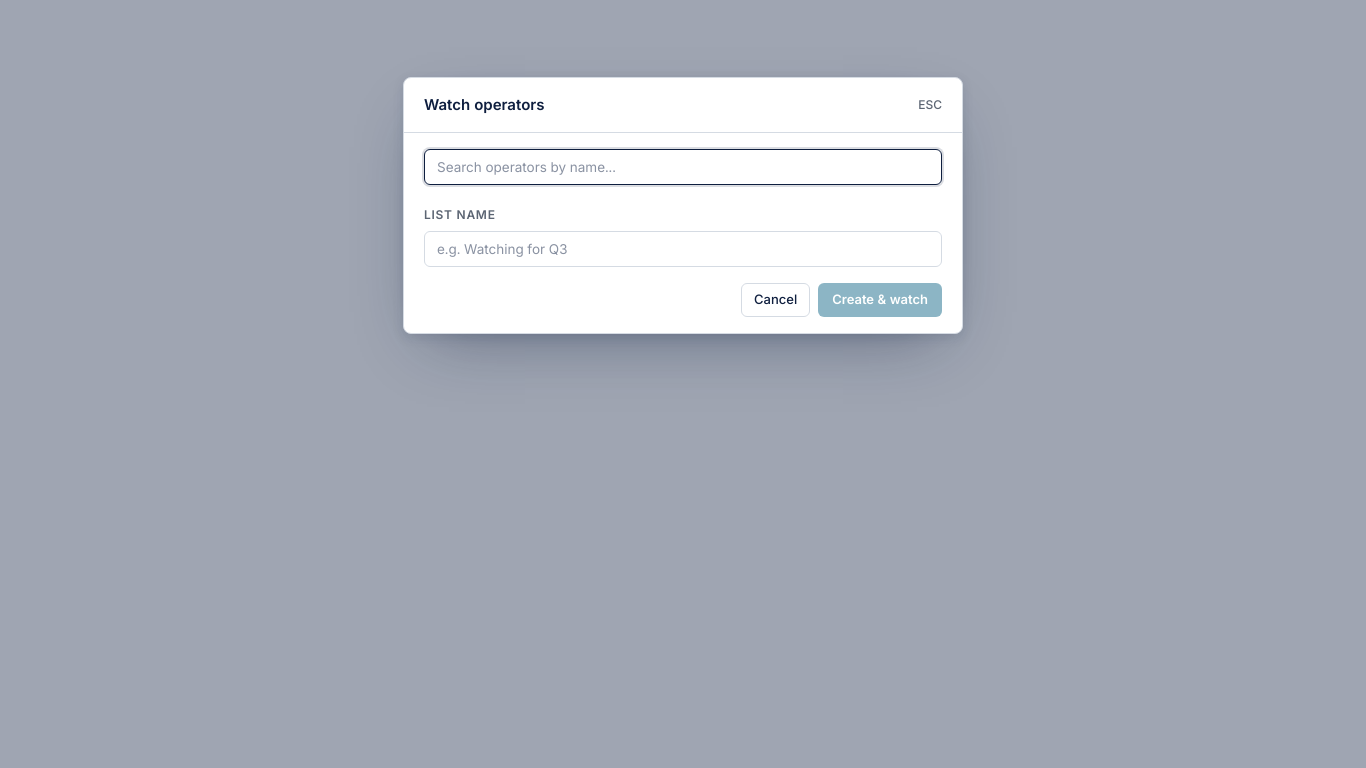
Test: WatchOperatorsModal › Create & watch is disabled until at least one operator is selected and the name is non-empty
Expected: the button "Create & watch" is disabled, [818,283,942,317]
Type "acme" into the search field with placeholder "Search operators by name..." at x=683, y=167, box [424,149,942,185]
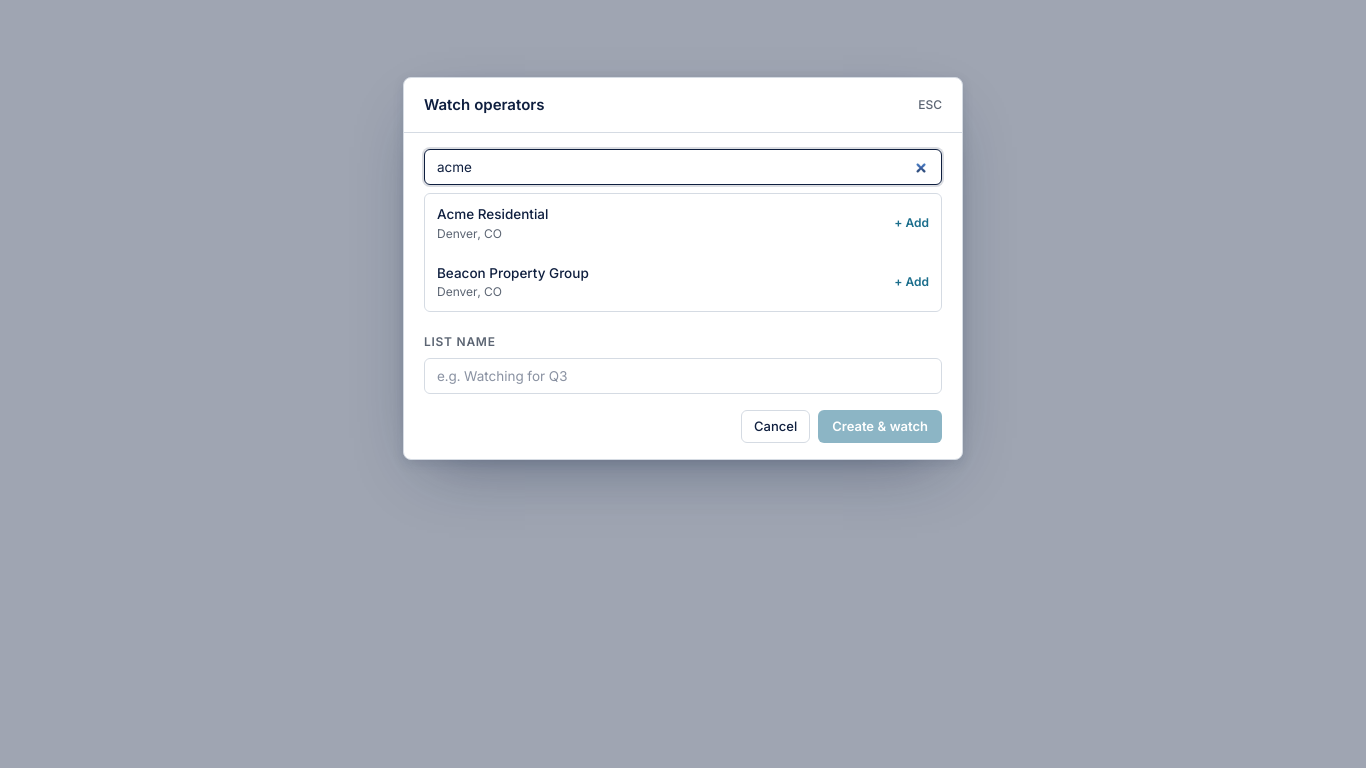
Expected: the text "Acme Residential" is shown, [437,206,548,222]
Click the option "Acme Residential Denver, CO + Add" at x=493, y=214, box [425,194,941,253]
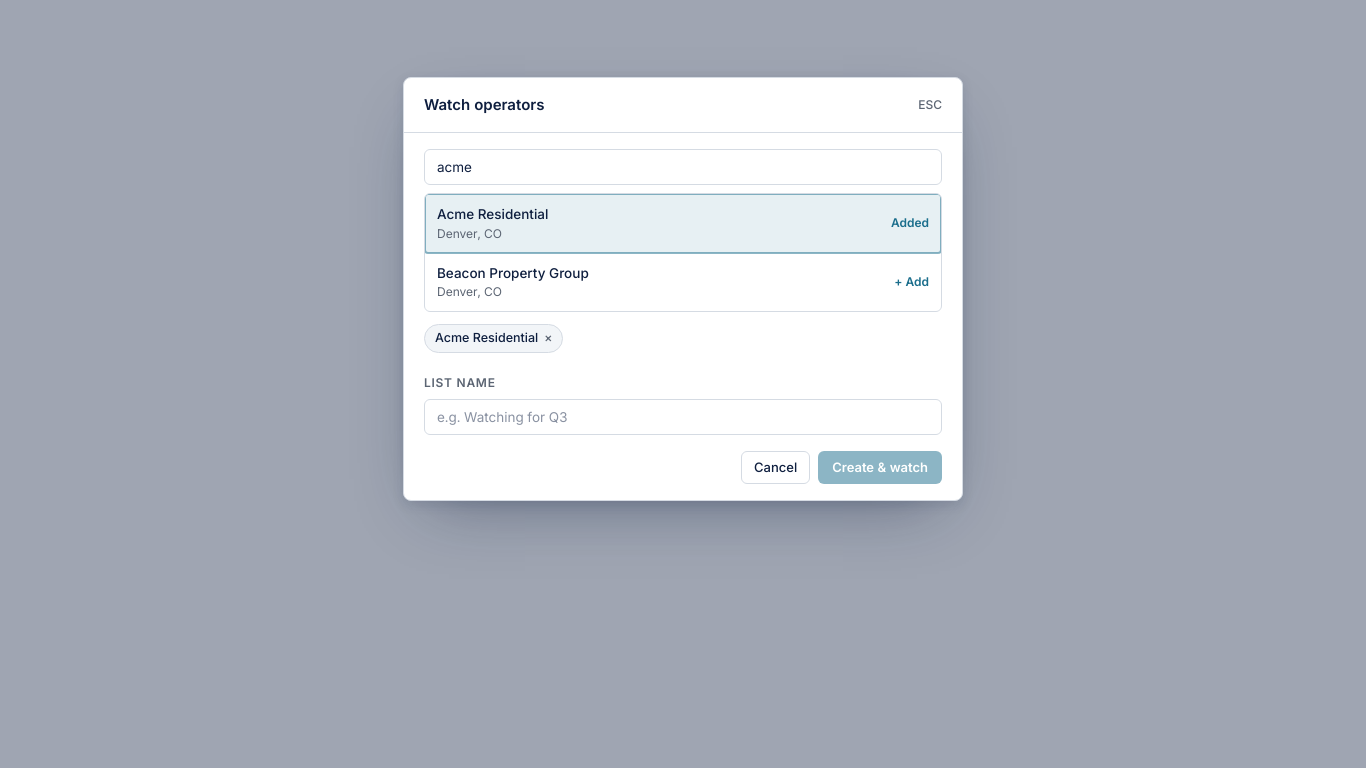
Expected: the button "Create & watch" is disabled, [818,450,942,484]
Type "My Roster" into the field labelled "List name" at x=683, y=416, box [424,398,942,434]
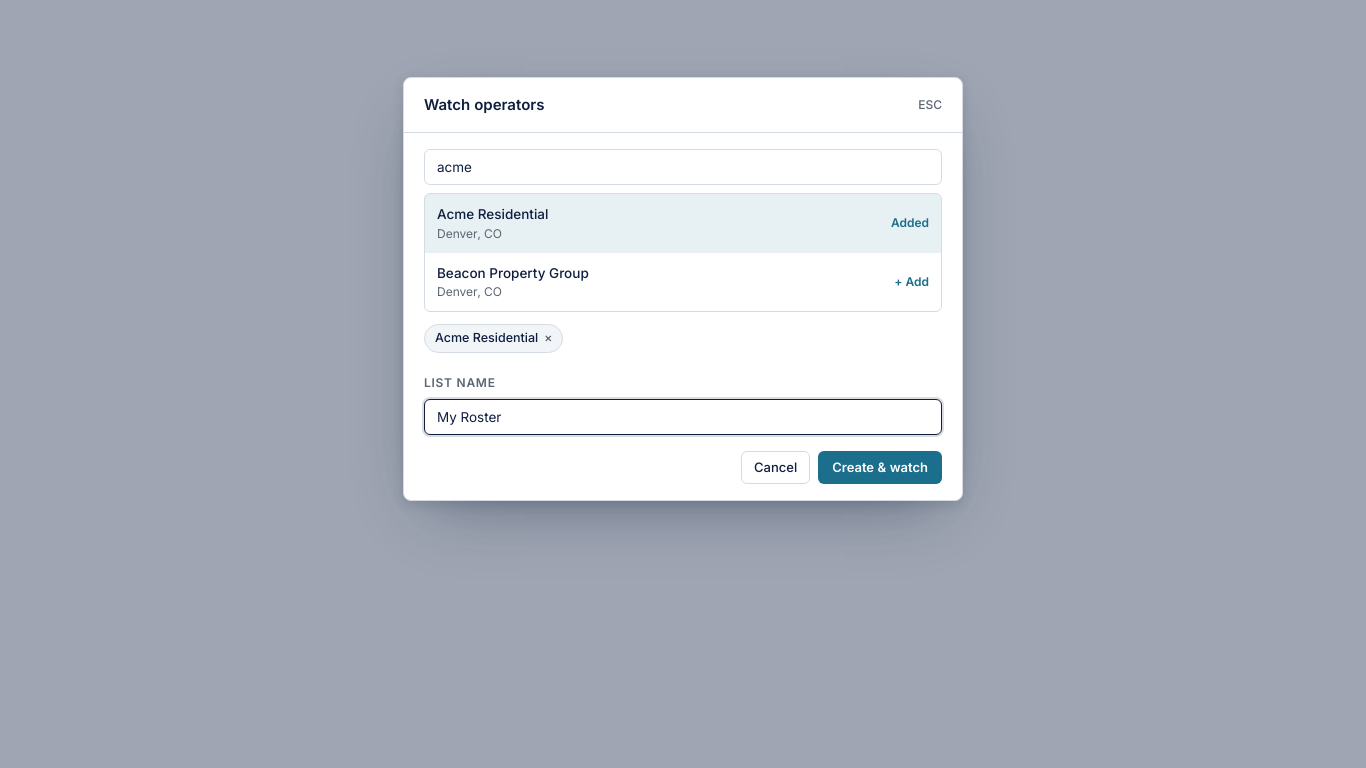
Expected: the button "Create & watch" is enabled, [818,450,942,484]
